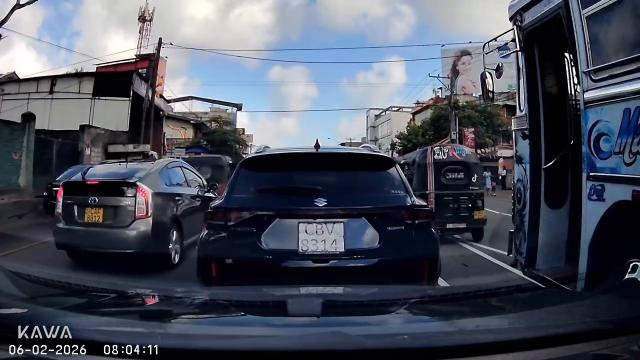illegal overtaking: (421, 140, 500, 241)
number plate: (289, 216, 360, 259), (77, 204, 111, 227), (466, 200, 490, 226)
